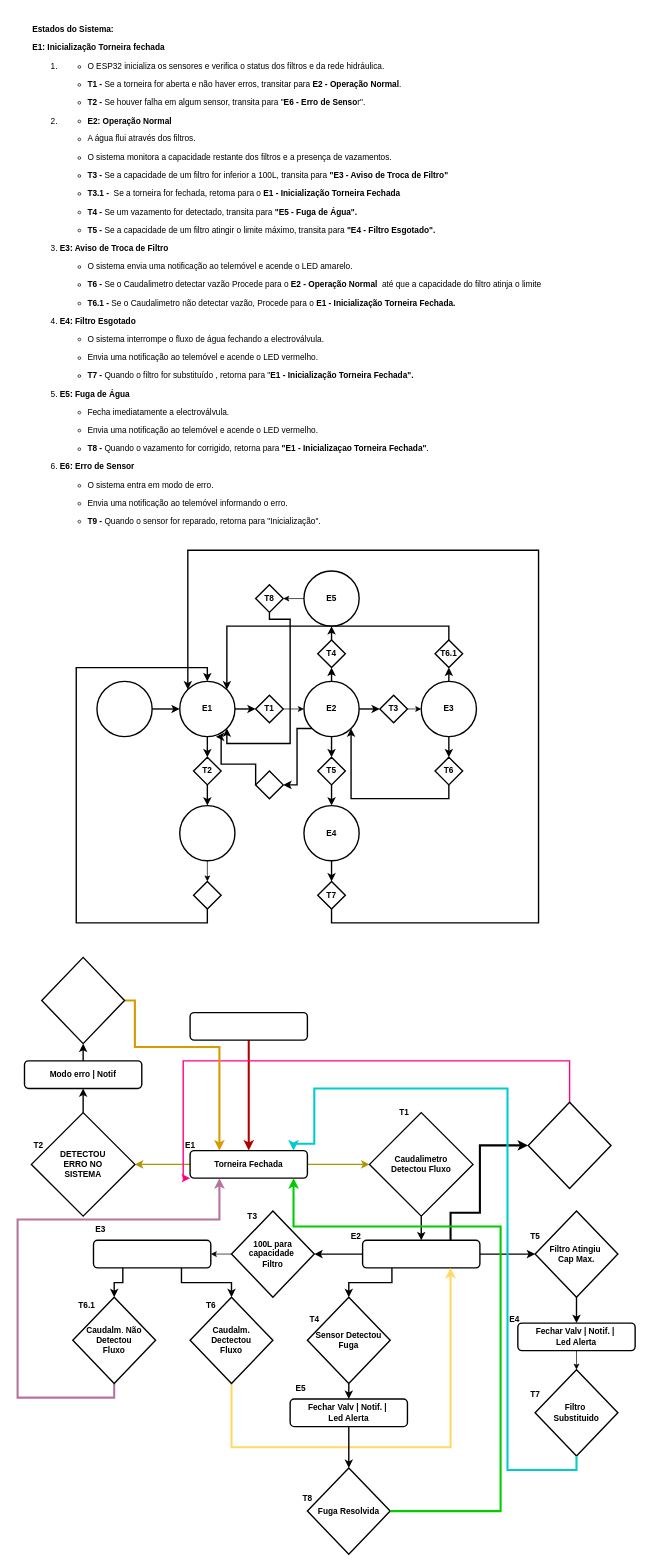
The diagram is 648 pixels wide and 1566 high, and some of its shapes have lost their labels. Here are the shapes that lost their labels. From the top down, the centre of each, then its label:
At point (124, 708): "INICIO".
At point (269, 784): "T3.1".
At point (207, 833): "E6".
At point (207, 894): "T9".
At point (83, 1000): "Erro resolvido".
At point (248, 1026): "INICIO SISTEMA".
At point (569, 1145): "Torneira Foi Fechada".
At point (151, 1253): "Aviso Troca Filtro".
At point (421, 1253): "Água A Fluir Nos Filtros".
